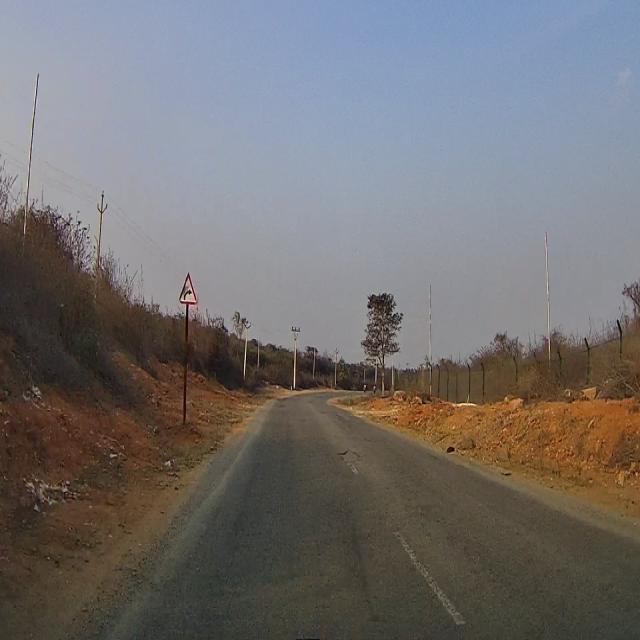right-hand-curve: (178, 273, 197, 302)
